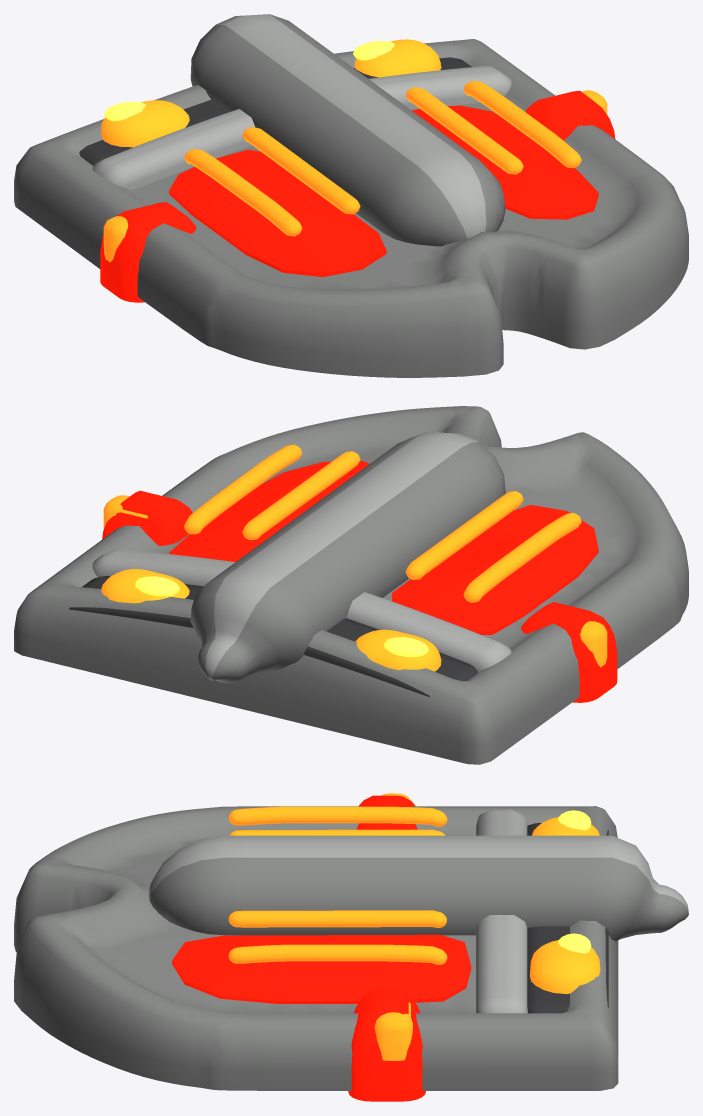
File: store_shield_157.glb
The picture shows the model from 3 angles, top to bottom: view 1: azimuth 30°, elevation 25°; view 2: azimuth 150°, elevation 25°; view 3: azimuth 270°, elevation 25°; orthographic projection.
Parts seen in each view (by area): view 1: shield_steel, spine, shield_red_core, shield_red_rib, shield_steel_light, shield_lamp_orange, shield_steel_dark, shield_lamp_yellow; view 2: shield_steel, spine, shield_red_core, shield_red_rib, shield_steel_light, shield_steel_dark, shield_lamp_orange, shield_lamp_yellow; view 3: shield_steel, spine, shield_red_core, shield_red_rib, shield_steel_light, shield_lamp_orange, shield_steel_dark, shield_lamp_yellow.
Boxes of the visible parts, box(x1,y1,x2,y2) form: shield_steel: box(14, 39, 688, 377); spine: box(190, 14, 505, 246); shield_red_core: box(100, 90, 615, 302); shield_red_rib: box(103, 81, 607, 262); shield_steel_light: box(92, 66, 511, 190); shield_lamp_orange: box(101, 39, 441, 147); shield_steel_dark: box(79, 57, 471, 165); shield_lamp_yellow: box(104, 41, 394, 121); shield_steel: box(14, 406, 688, 764); spine: box(190, 432, 505, 683); shield_red_core: box(102, 461, 617, 702); shield_red_rib: box(103, 444, 607, 667); shield_steel_light: box(92, 549, 511, 671); shield_steel_dark: box(69, 576, 477, 696); shield_lamp_orange: box(101, 569, 441, 671); shield_lamp_yellow: box(135, 576, 428, 657); shield_steel: box(14, 806, 618, 1090); spine: box(148, 835, 688, 941); shield_red_core: box(172, 795, 471, 1101); shield_red_rib: box(228, 793, 447, 1060); shield_steel_light: box(476, 809, 527, 1013); shield_lamp_orange: box(529, 817, 600, 993); shield_steel_dark: box(527, 823, 608, 1013); shield_lamp_yellow: box(558, 810, 591, 953).
Bounding box in the file's own units: 17.9 × 4.65 × 20.86.
